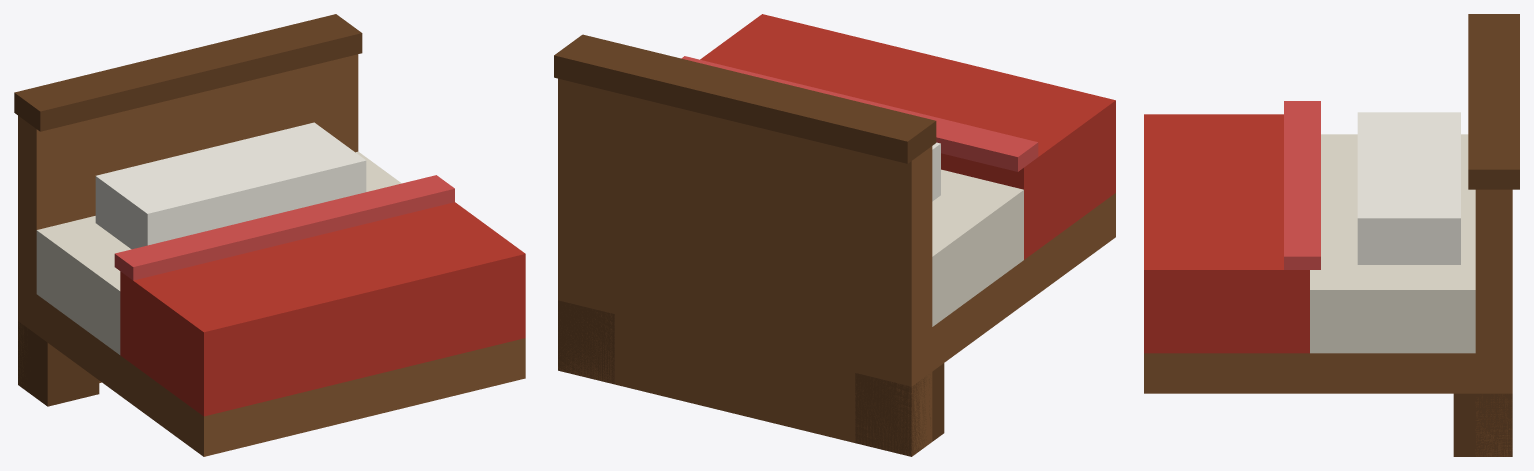
Rendered from bed_head.glb.
3 renders of one model, left to right at view 1: azimuth 30°, elevation 25°; view 2: azimuth 150°, elevation 25°; view 3: azimuth 270°, elevation 25°, orthographic. The views are drawn at different scales.
Parts seen in each view (by area): view 1: body; view 2: body; view 3: body.
Part boxes in pixels (left/top/right/bottom): body: left=14, top=14, right=525, bottom=456; body: left=554, top=14, right=1115, bottom=456; body: left=1144, top=14, right=1519, bottom=456.
Bounding box in the file's own units: 1 × 0.86 × 1.02.
